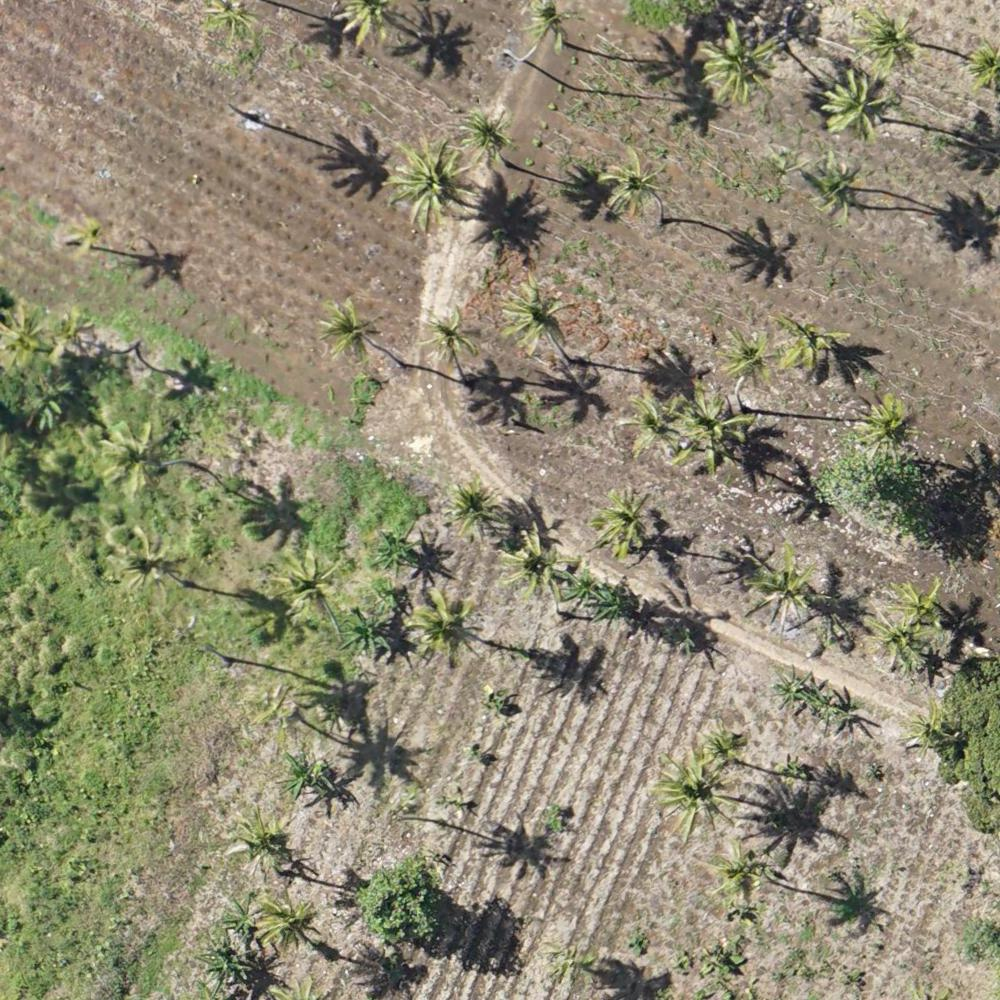Palm: (655, 751, 736, 840), (700, 17, 782, 104), (386, 140, 468, 226), (751, 542, 821, 634), (500, 528, 574, 609), (97, 421, 168, 502), (852, 2, 926, 78), (595, 146, 672, 217), (776, 312, 857, 378), (117, 526, 187, 599), (498, 275, 572, 344), (824, 74, 896, 143), (413, 584, 476, 660), (617, 393, 690, 458), (276, 551, 340, 625), (593, 486, 655, 561), (253, 886, 319, 955), (863, 391, 930, 458), (803, 154, 867, 224), (869, 604, 931, 672), (319, 299, 385, 361), (695, 393, 756, 459), (698, 847, 765, 905), (714, 323, 776, 383), (419, 306, 484, 363), (231, 809, 290, 871), (1, 307, 50, 372), (522, 1, 585, 51), (462, 105, 516, 163), (697, 713, 748, 766), (61, 210, 115, 260), (48, 305, 96, 361), (907, 696, 953, 754), (895, 576, 942, 630)
